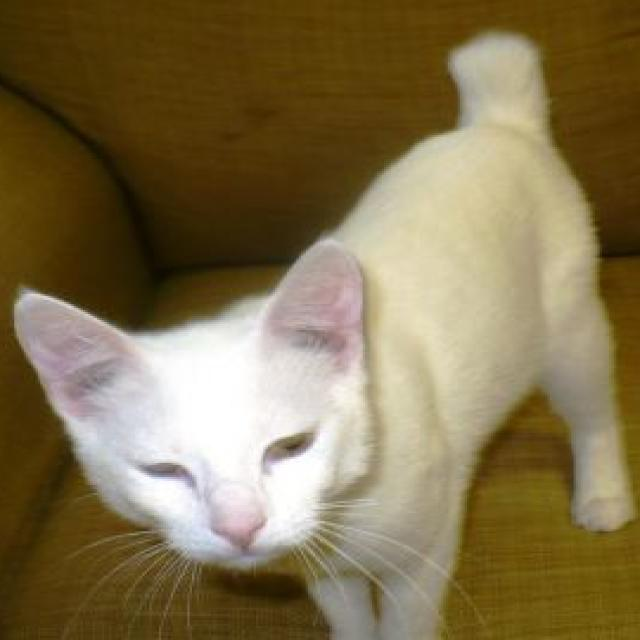American Bobtail: (2, 26, 640, 640)
